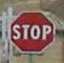stop: (7, 9, 55, 54)
